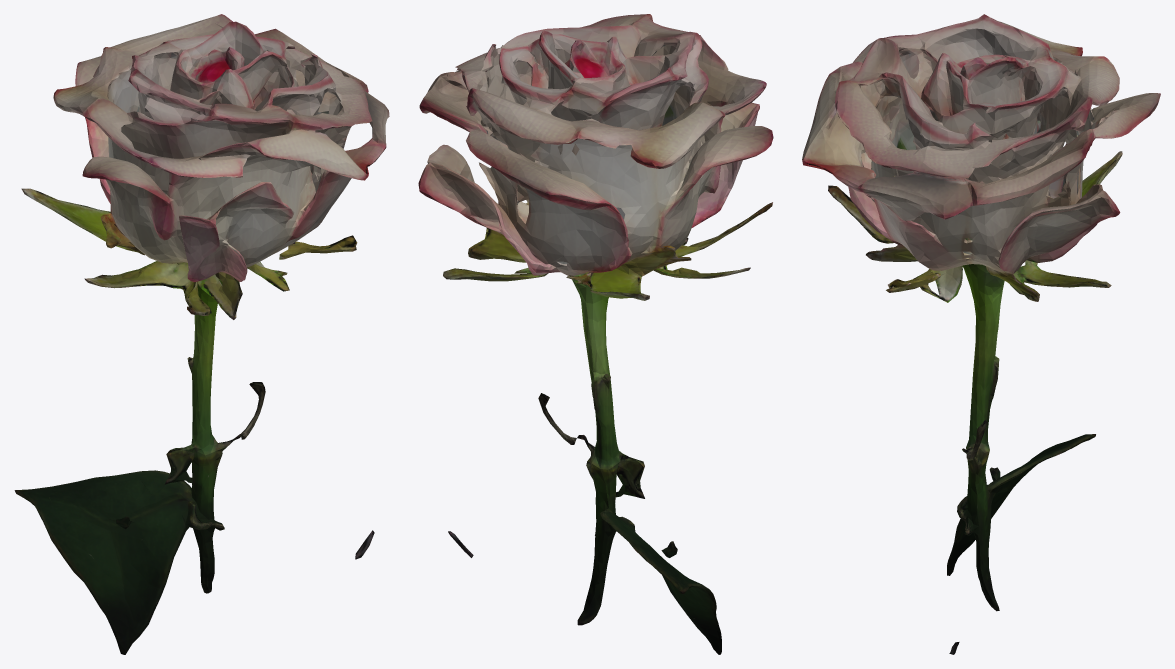
3 renders of one model, left to right at view 1: azimuth 30°, elevation 25°; view 2: azimuth 150°, elevation 25°; view 3: azimuth 270°, elevation 25°, orthographic. The views are drawn at different scales.
Visible parts, largest first — view 1: world; view 2: world; view 3: world.
Boxes of the visible parts, <box> form: world: <box>14,14,389,654</box>; world: <box>418,14,773,654</box>; world: <box>802,14,1160,654</box>.
Size of the model in its own units: 0.5566 by 1 by 0.5531.
1 material, 1 textured.
